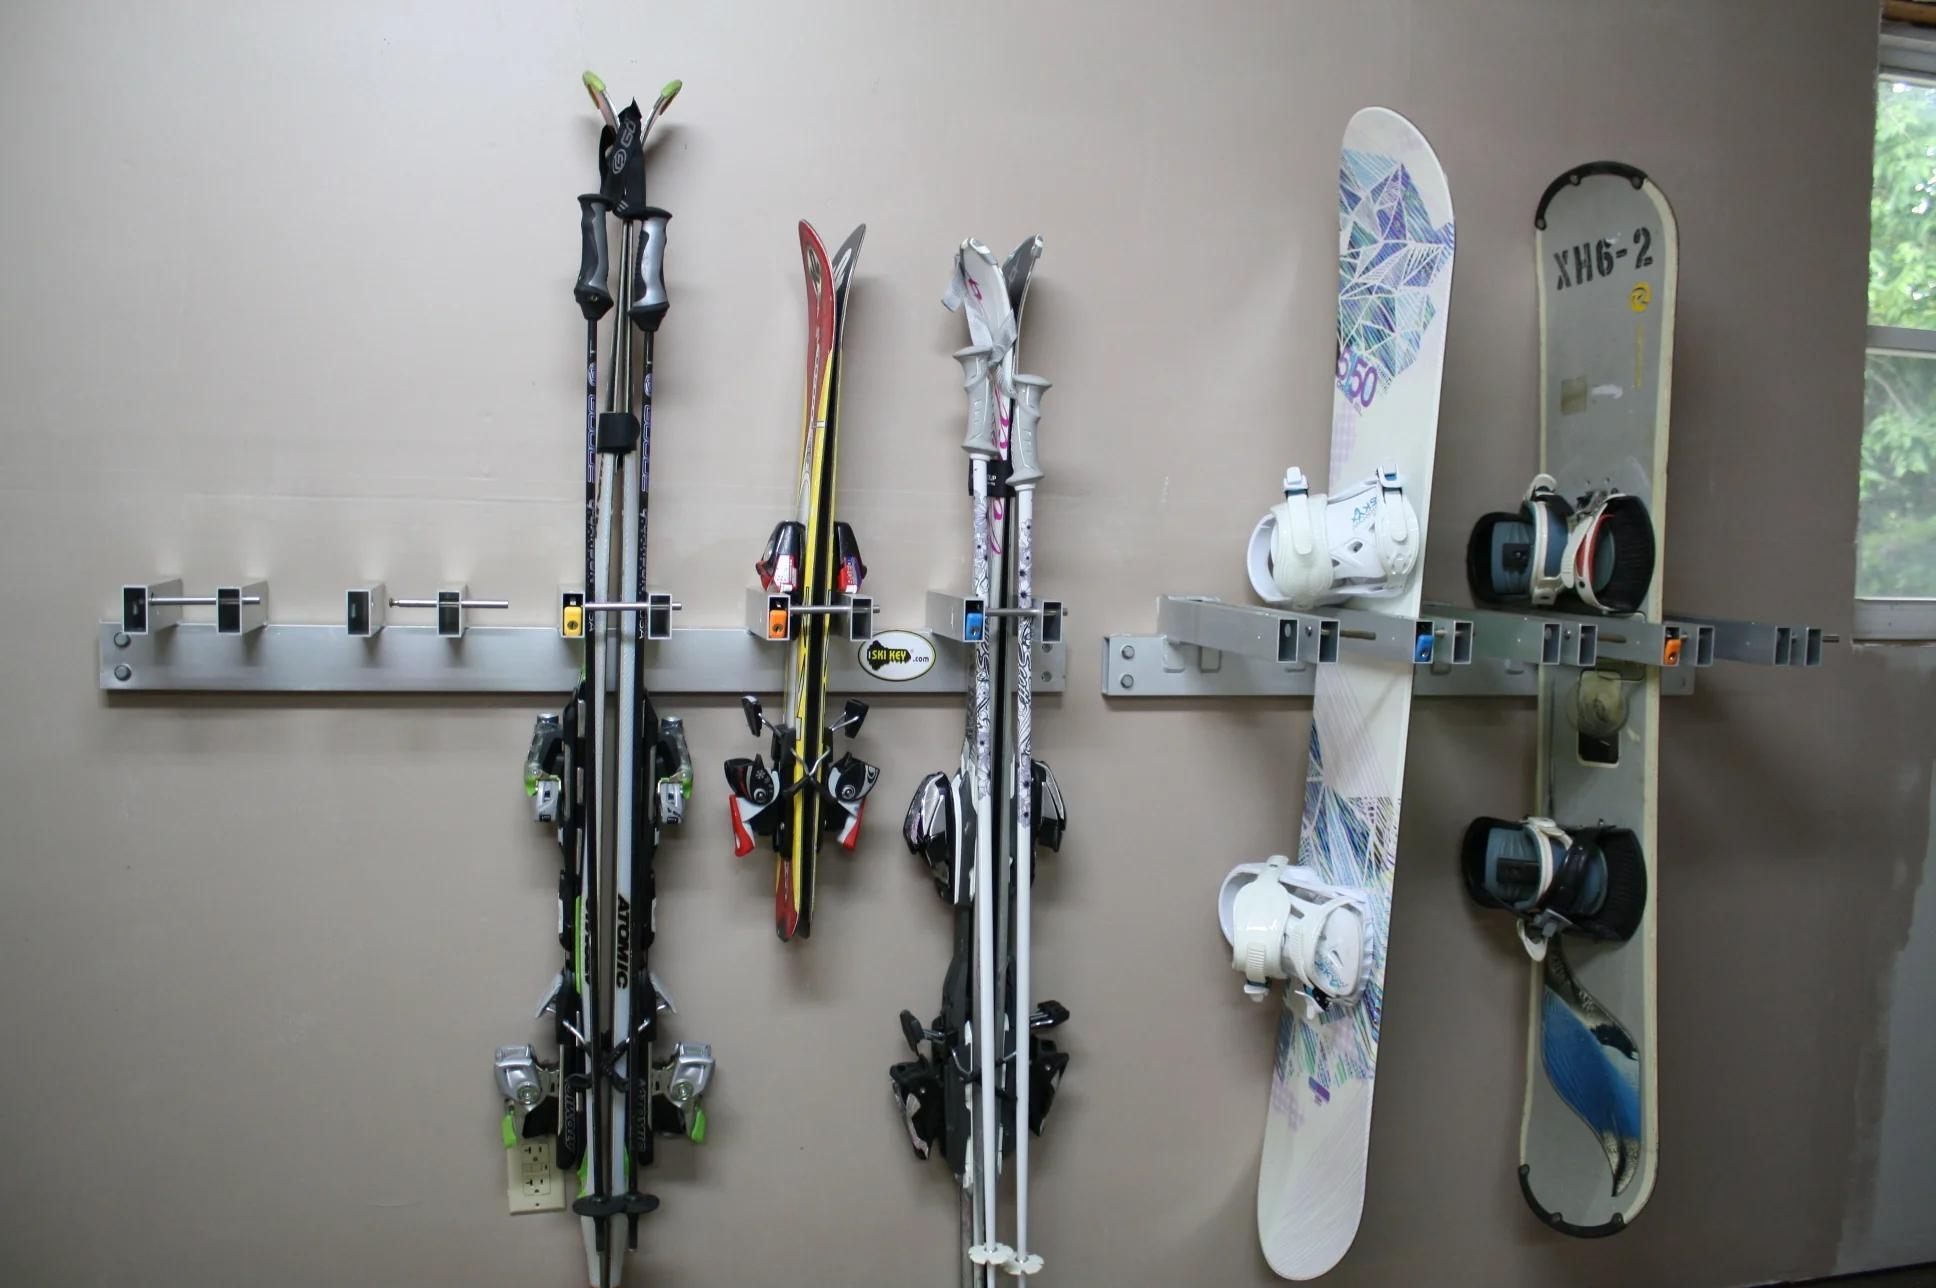Snowboard: (1217, 103, 1457, 1288), (1467, 152, 1686, 1256)
